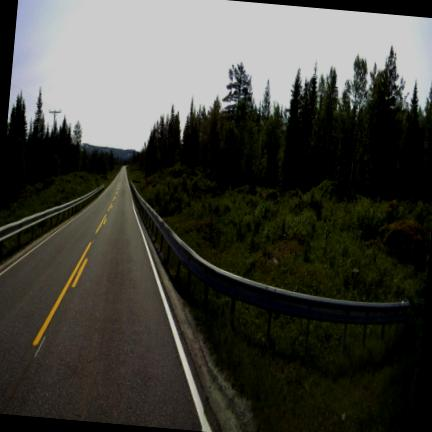Road: (0, 169, 205, 429)
